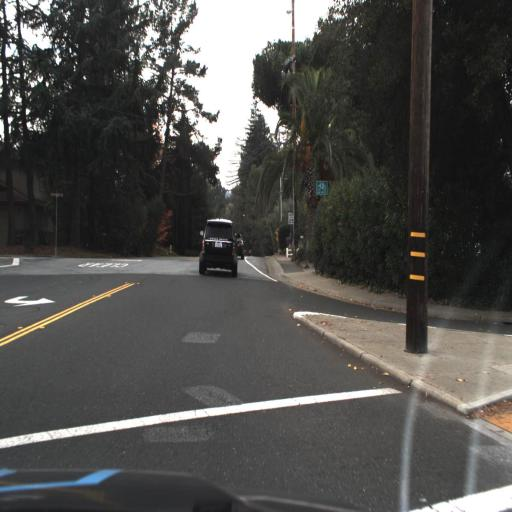car: (197, 212, 239, 281), (230, 229, 245, 262)
